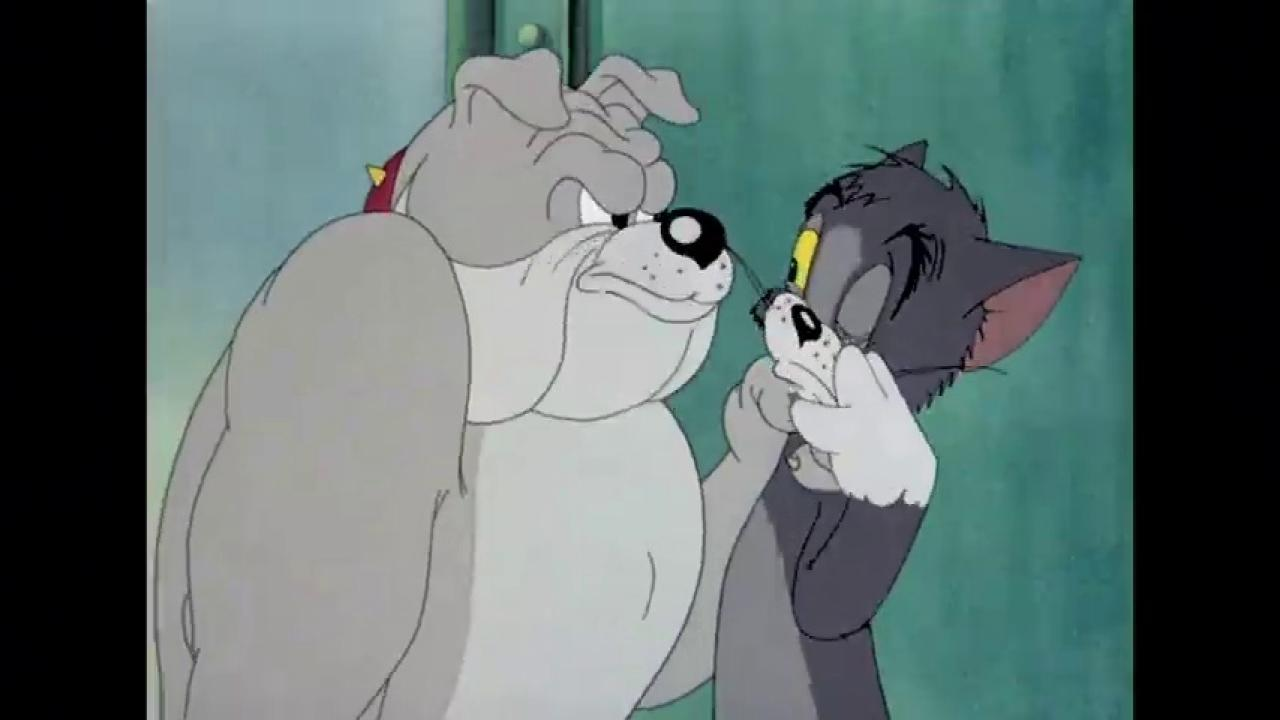Tom: (713, 136, 1083, 720)
